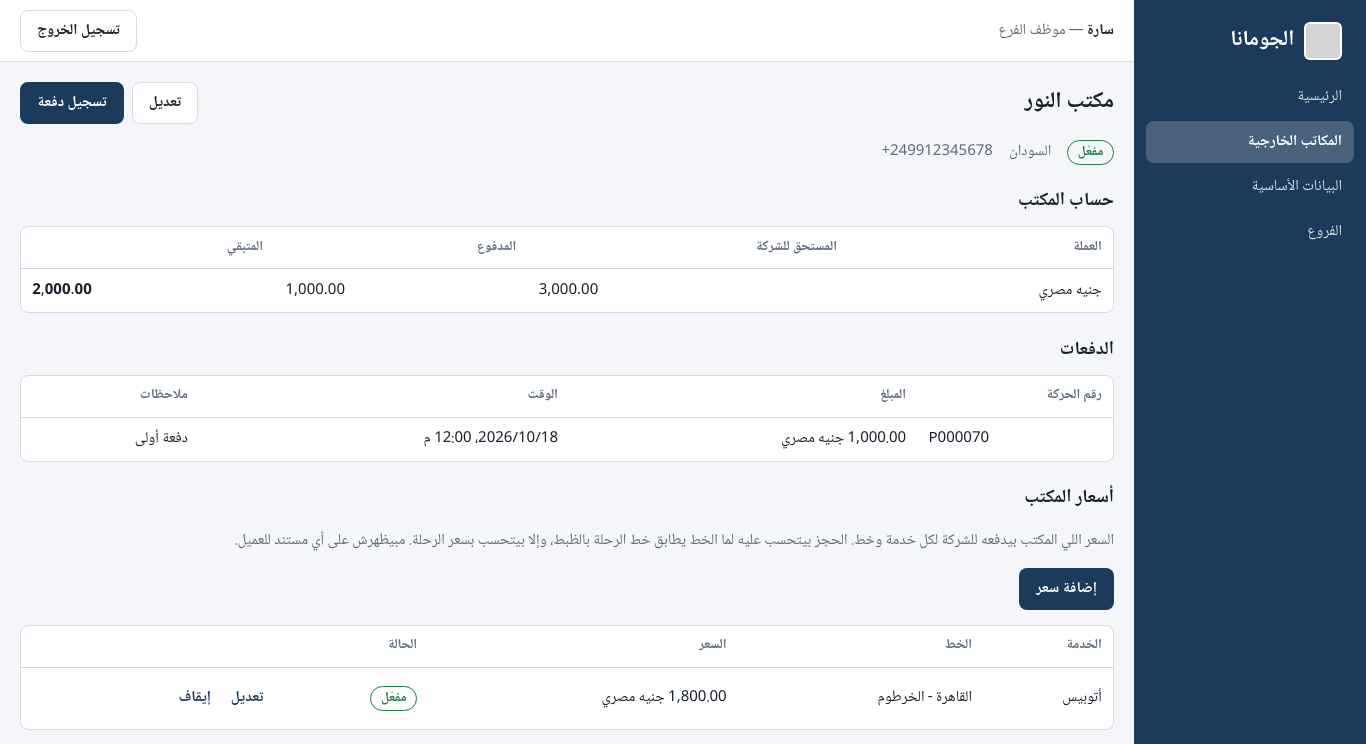
agent file › records a payment into a treasury and shows what is left in its currency
This screenshot has width=1366, height=744.
Click the button "تسجيل دفعة" at (72, 103), box 20,82 -> 124,124
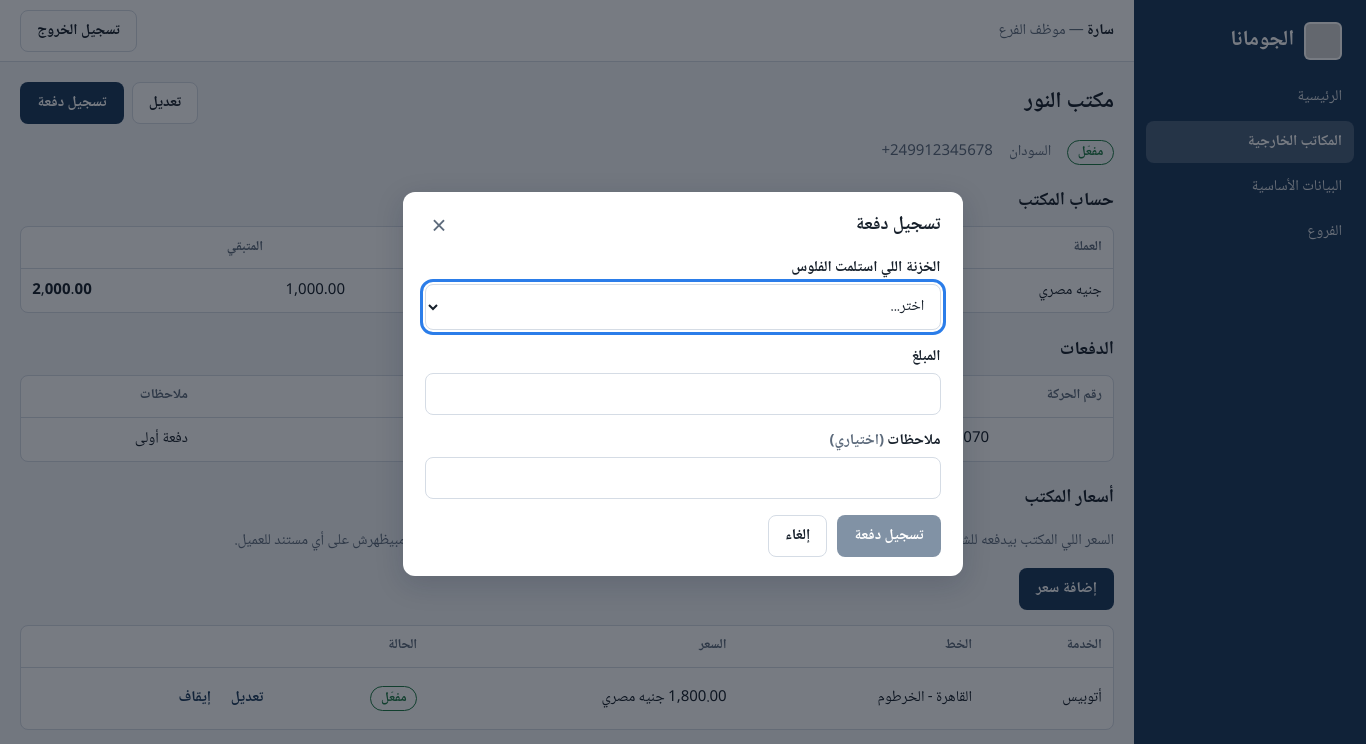
Now the button "تسجيل دفعة" is disabled, box 837,515 -> 941,557
Select "نقدي — جنيه مصري (فرع القاهرة)" in the dropdown labelled "الخزنة اللي استلمت الفلوس" at (683, 307), box 425,284 -> 941,330
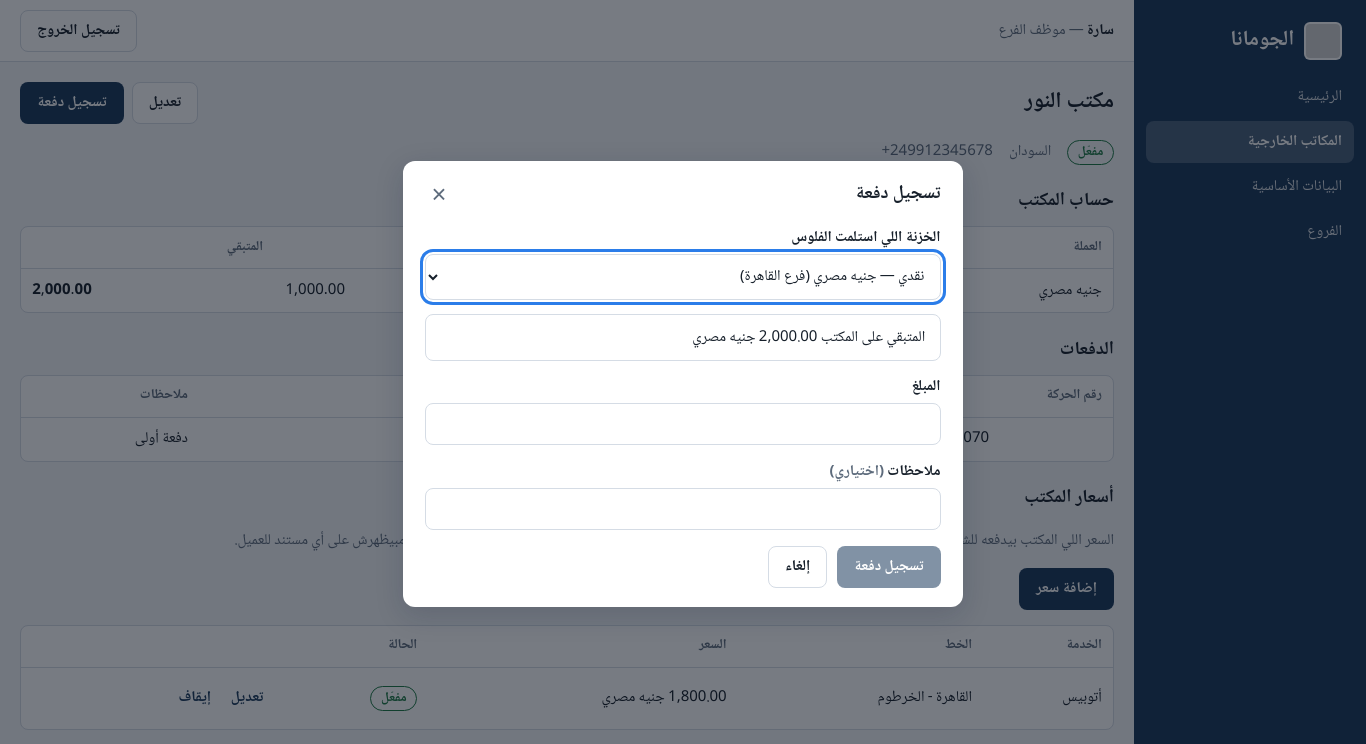
Now the text "المتبقي على المكتب 2,000.00 جنيه مصري" is shown, box 425,314 -> 941,361
Type "500" into the field labelled "المبلغ" at (683, 424), box 425,403 -> 941,445
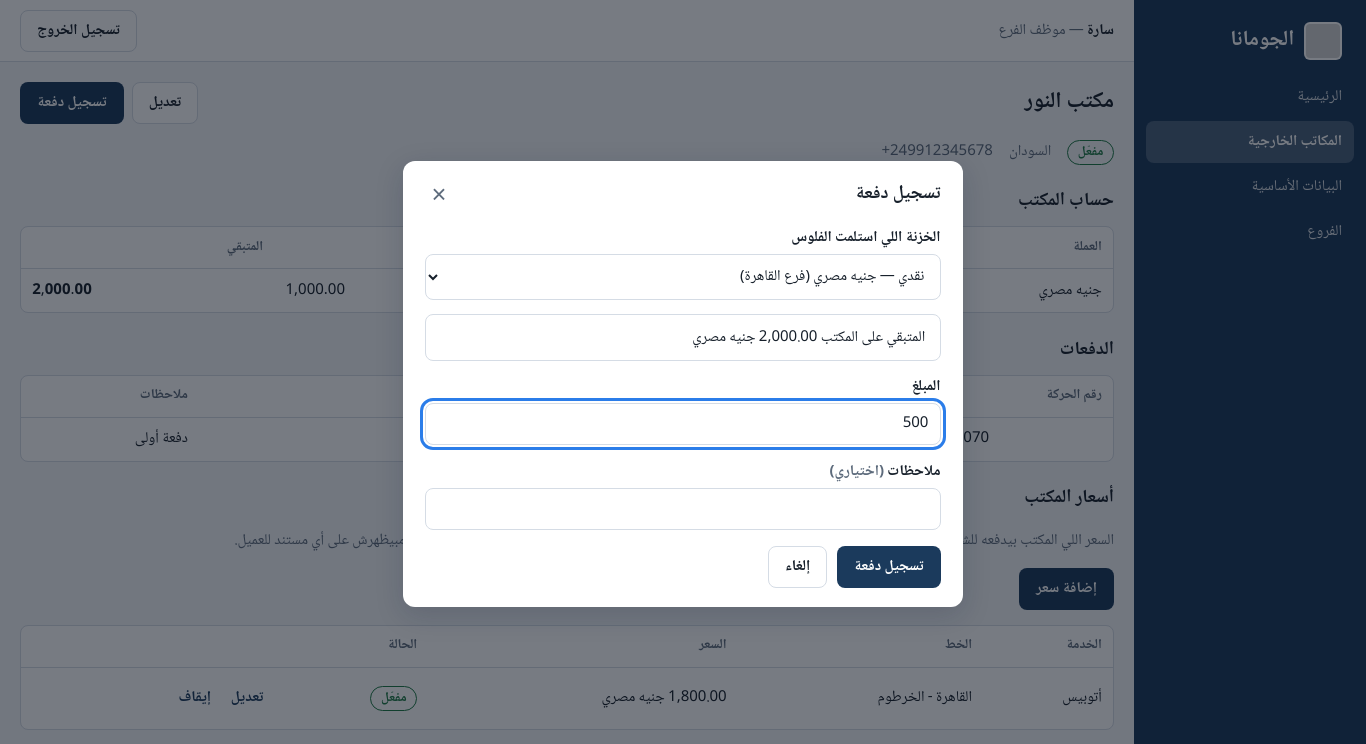
Click the button "تسجيل دفعة" at (889, 567), box 837,546 -> 941,588
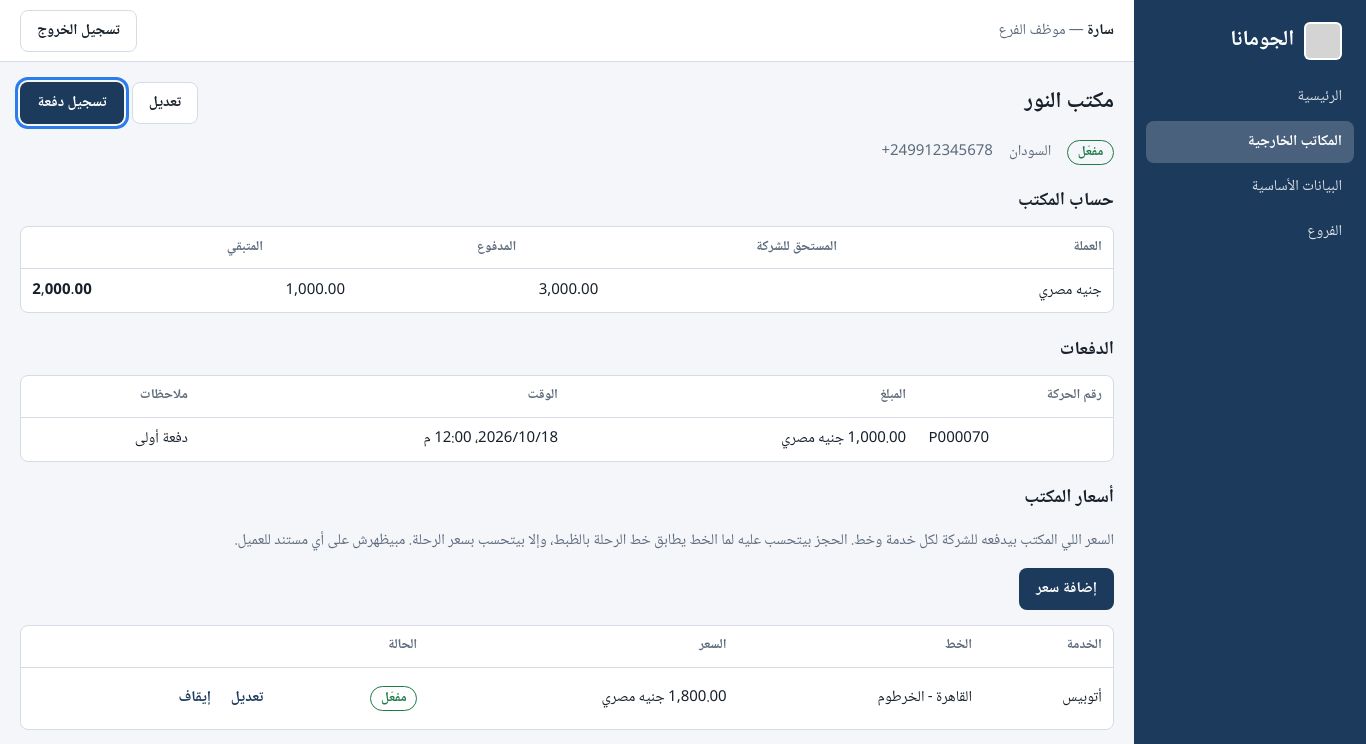
Now the dialog is gone
